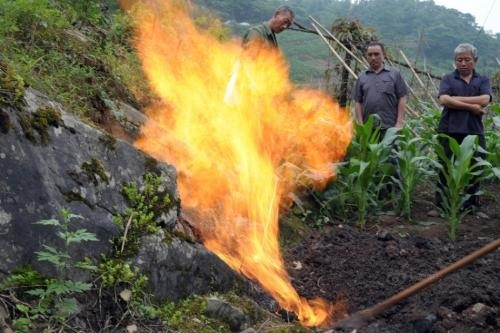fire: (121, 25, 356, 323)
